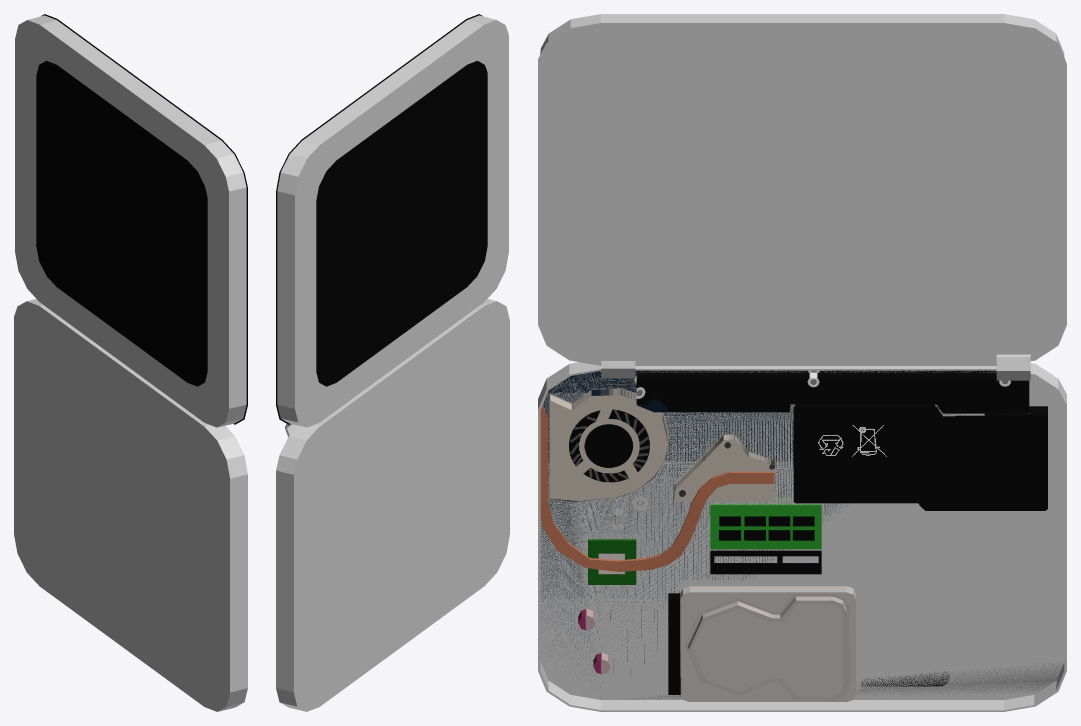
File: Pc destapado.fbx
3 renders of one model, left to right at view 1: azimuth 30°, elevation 25°; view 2: azimuth 150°, elevation 25°; view 3: azimuth 270°, elevation 25°, orthographic. The views are drawn at different scales.
Visible parts, largest first — view 1: Carcasa 1, Carcasa; view 2: Carcasa 1, Carcasa; view 3: Carcasa 1, Carcasa, Bateria, Disco, Board, Conexion Bateria, Ventilador, Conexion, Memoria, Ranura, CPU, Carcasa.014.
Boxes of the visible parts, box(x1,y1,x2,y2) form: Carcasa 1: box(15, 14, 247, 427); Carcasa: box(14, 299, 247, 711); Carcasa 1: box(276, 14, 508, 427); Carcasa: box(276, 299, 509, 711); Carcasa 1: box(538, 14, 1066, 365); Carcasa: box(538, 362, 1066, 711); Bateria: box(793, 404, 1047, 510); Disco: box(668, 586, 855, 701); Board: box(540, 370, 1062, 698); Conexion Bateria: box(636, 372, 1029, 413); Ventilador: box(549, 388, 668, 501); Conexion: box(540, 405, 775, 571); Memoria: box(710, 504, 821, 549); Ranura: box(710, 550, 821, 574); CPU: box(588, 539, 636, 584); Carcasa.014: box(996, 354, 1030, 380).
Bounding box in the file's own units: 29.68 × 667 × 464.
